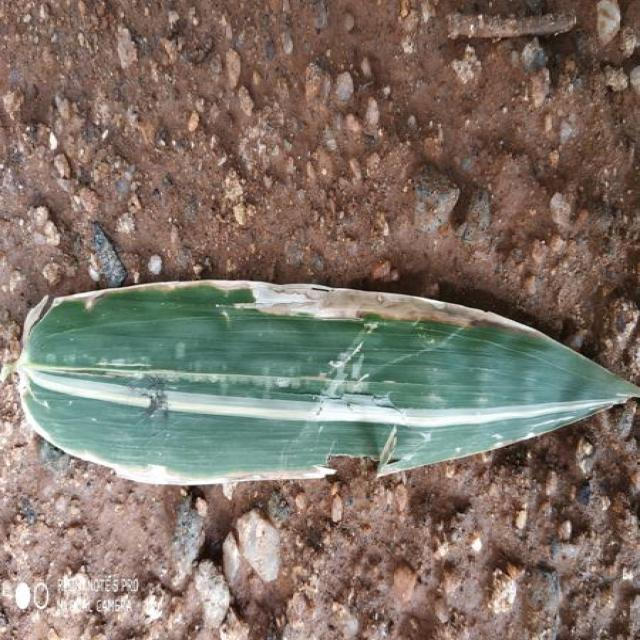Bamboo: (17, 280, 638, 484)
defectedBamboo: (18, 280, 585, 376)
